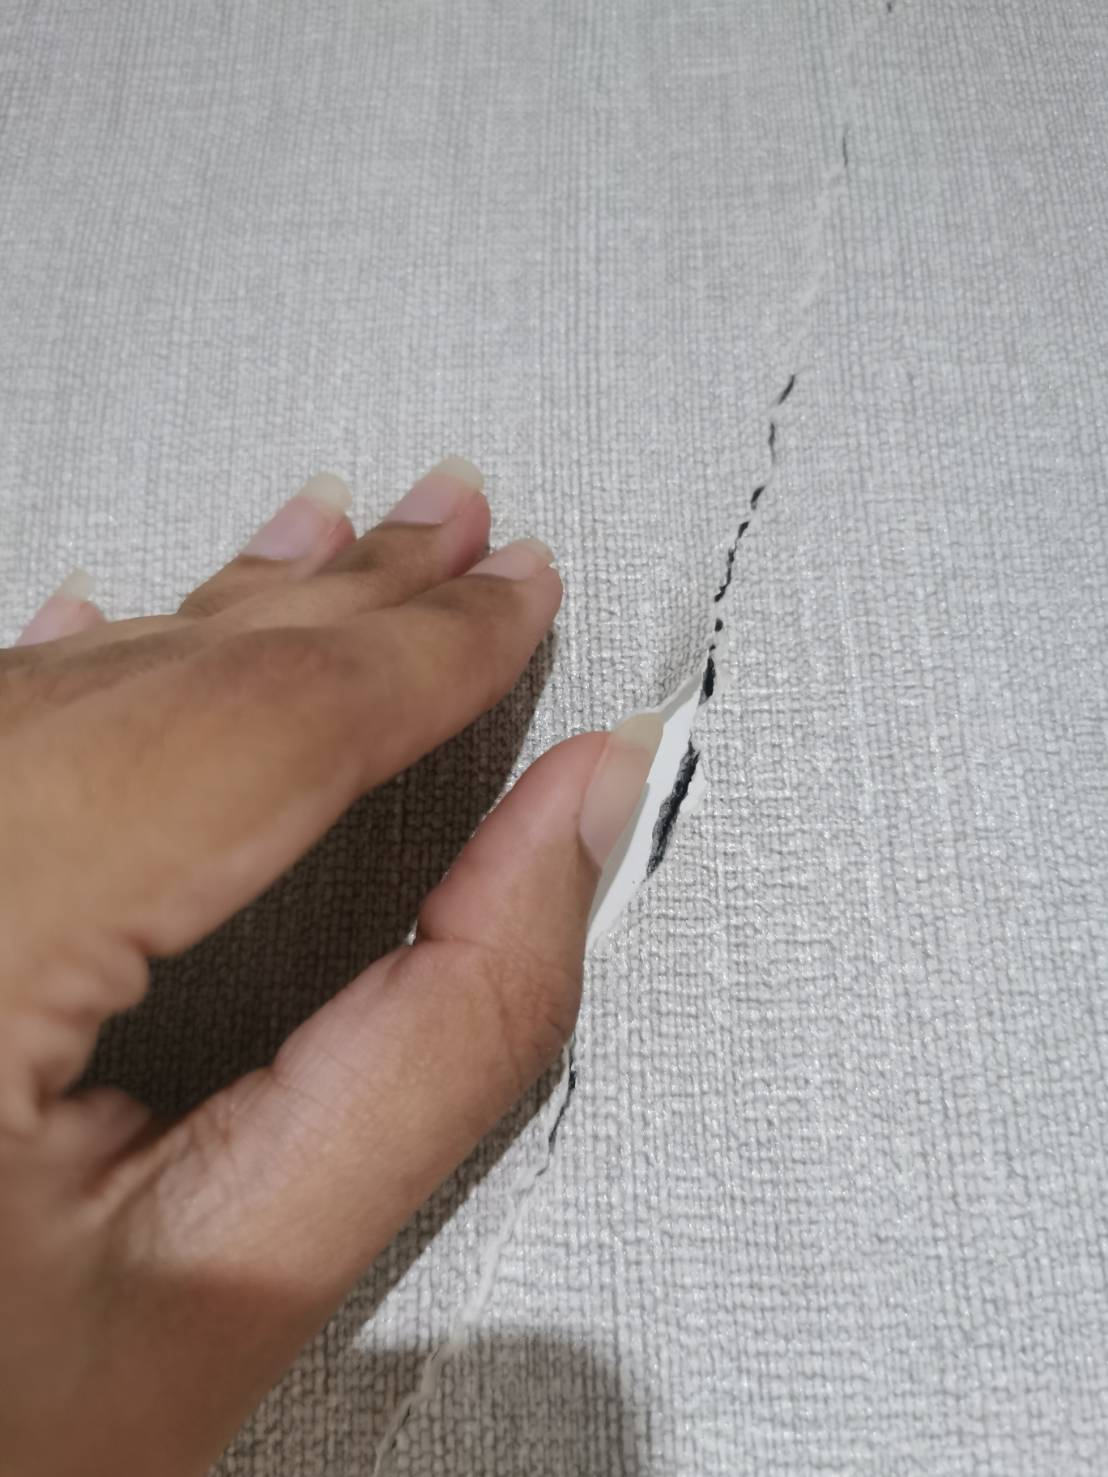Low: (609, 1, 956, 894)
